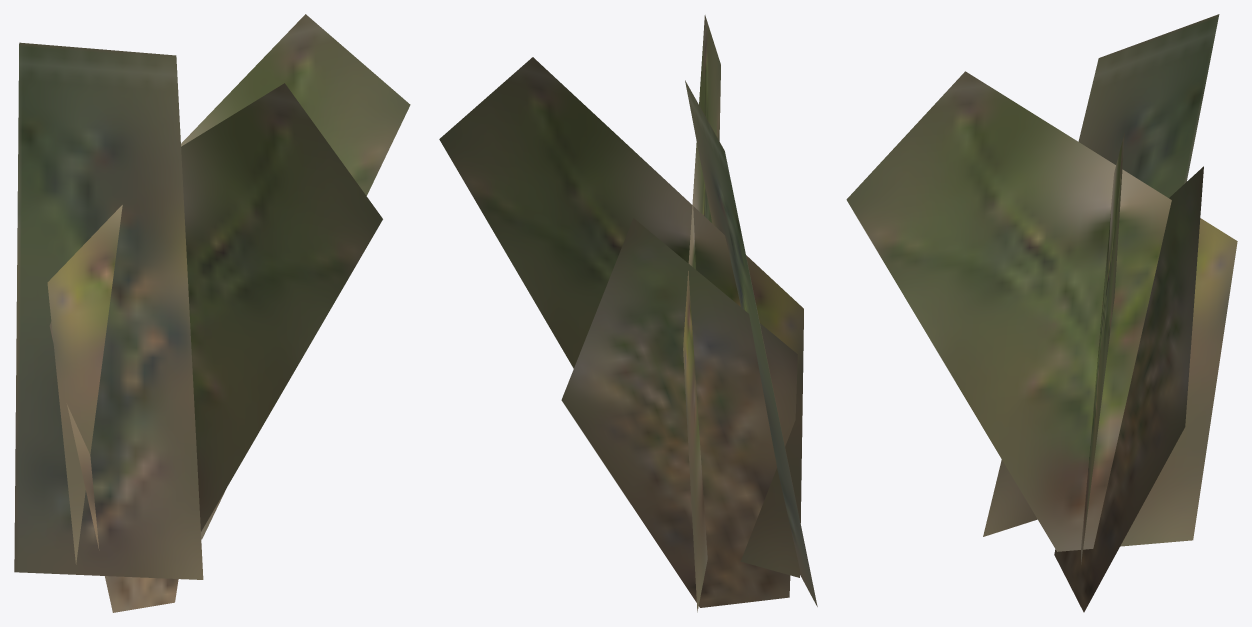
File: sm_grassMesh02.fbx
3 views of the same model, side by side, from view 1: azimuth 30°, elevation 25°; view 2: azimuth 150°, elevation 25°; view 3: azimuth 270°, elevation 25° (orthographic). The views are drawn at different scales.
Parts seen in each view (by area): view 1: sm_grassMesh_02; view 2: sm_grassMesh_02; view 3: sm_grassMesh_02.
Part boxes in pixels (left/top/right/bottom): sm_grassMesh_02: left=14, top=14, right=410, bottom=612; sm_grassMesh_02: left=439, top=15, right=817, bottom=612; sm_grassMesh_02: left=846, top=14, right=1237, bottom=612.
Size of the model in its own units: 146 by 196 by 122.
1 material, 1 textured.
